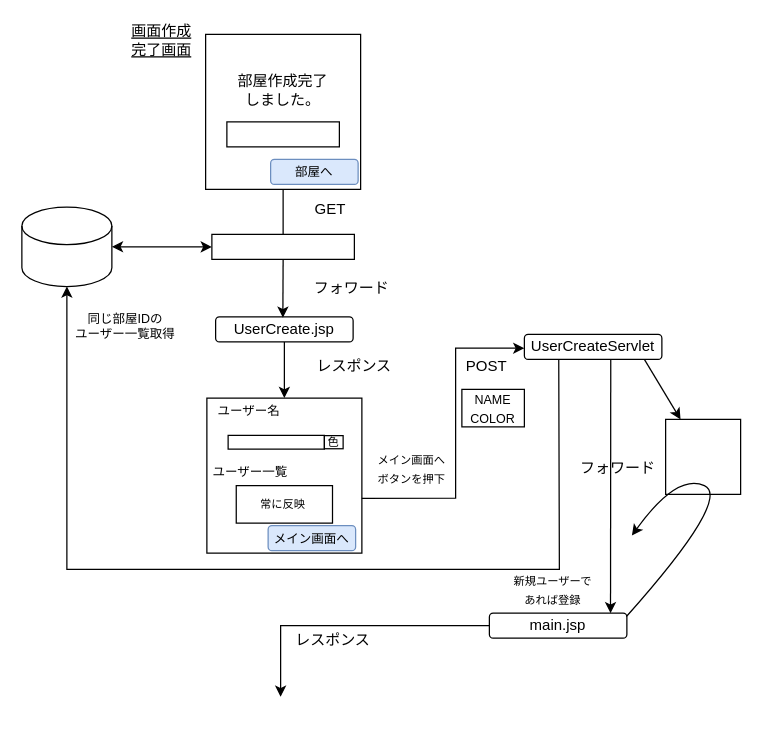
This 763x729 diagram has some shape labels left out. The centre of each missing label's shape, as x and y in pixels:
URL: ________: (282,134)
UserList.servlet: (282,246)
ユーザーDB: (66,246)
ユーザーID ”ID.NAME": (702,456)
